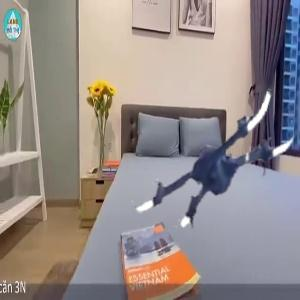drone: (121, 65, 298, 242)
